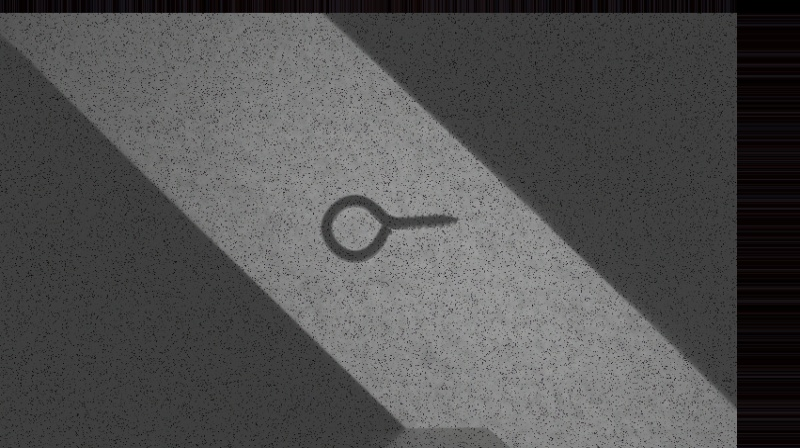O001: (317, 191, 462, 264)
